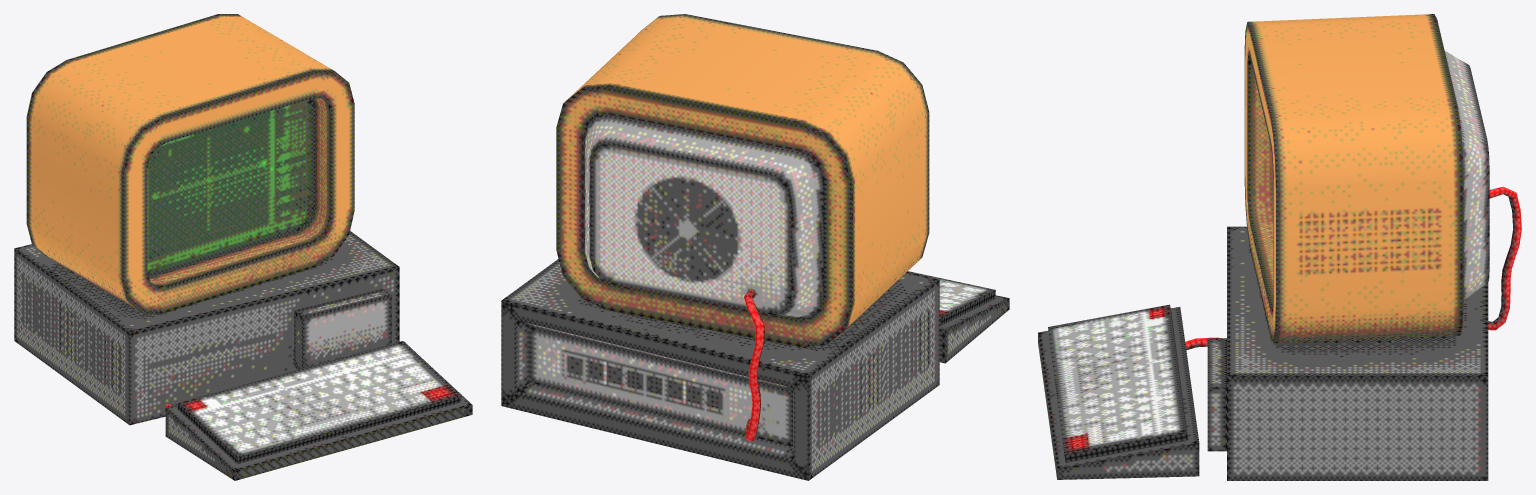
File: computer3.glb
3 views of the same model, side by side, from view 1: azimuth 30°, elevation 25°; view 2: azimuth 150°, elevation 25°; view 3: azimuth 270°, elevation 25° (orthographic). The views are drawn at different scales.
Visible parts, largest first — view 1: Object_2; view 2: Object_2; view 3: Object_2.
Part boxes in pixels (x1=…): Object_2: x1=14, y1=14, x2=472, y2=480; Object_2: x1=501, y1=14, x2=1009, y2=480; Object_2: x1=1038, y1=14, x2=1521, y2=480.
Bounding box in the file's own units: 0.5614 × 0.5511 × 0.7341.
Materials: 1 (1 with a texture image).
